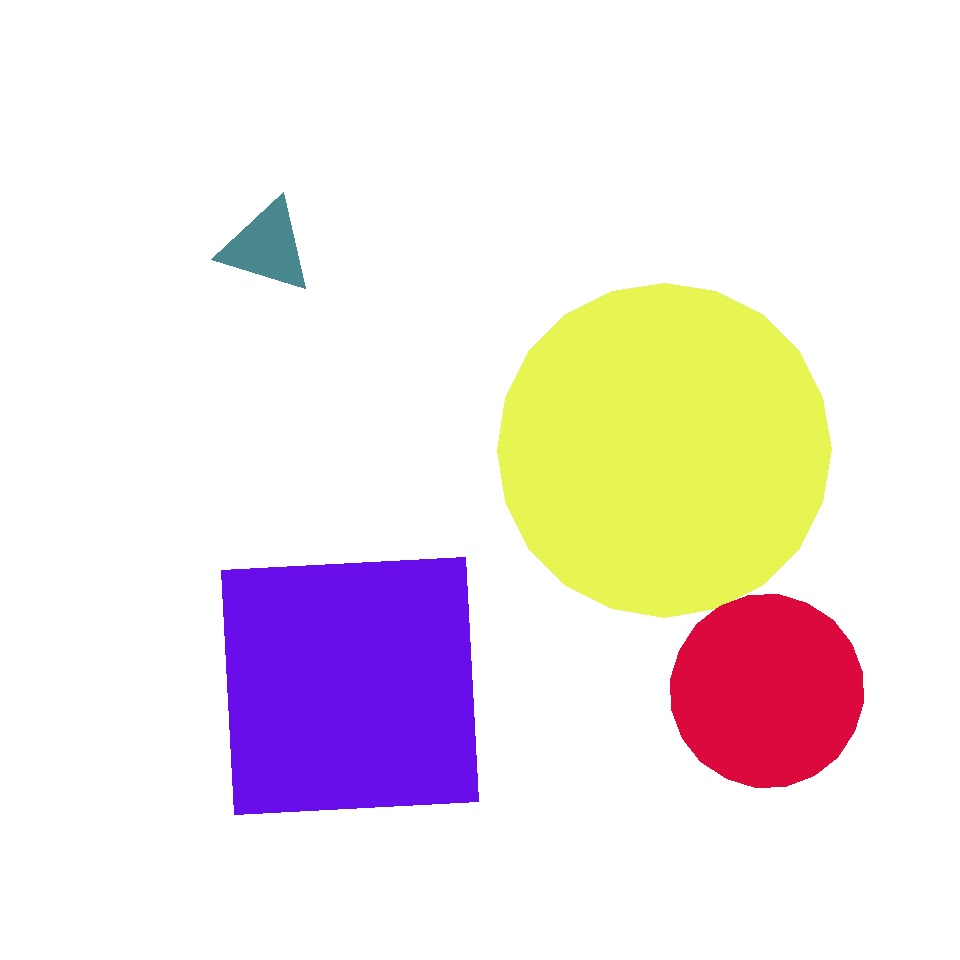circle: (220, 199, 314, 295)
square: (524, 92, 822, 388), (222, 558, 478, 814)
triangle: (497, 283, 831, 617), (253, 482, 526, 756), (670, 595, 864, 788)
